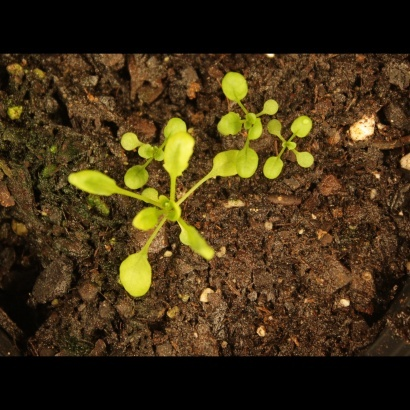leaf: (116, 247, 158, 302), (162, 127, 198, 186), (66, 166, 121, 202), (175, 222, 221, 263), (216, 68, 254, 108), (209, 147, 244, 180), (123, 161, 154, 195), (233, 146, 261, 180), (128, 207, 162, 233), (216, 109, 244, 140), (290, 111, 319, 140), (160, 115, 191, 140), (262, 155, 287, 181), (119, 130, 142, 153), (139, 183, 162, 206), (140, 142, 163, 165), (296, 149, 319, 172), (259, 96, 282, 119), (265, 119, 288, 142), (241, 120, 264, 143), (165, 201, 188, 224)
